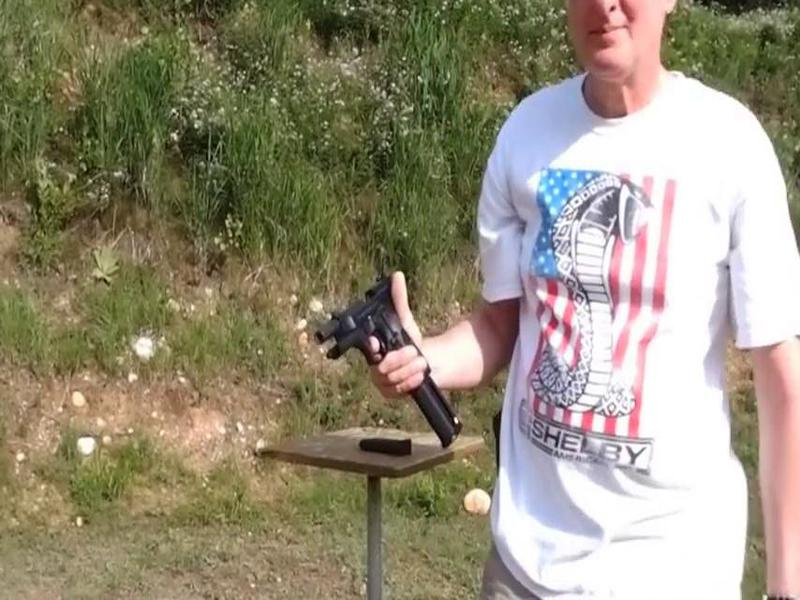Pistola: (307, 261, 438, 383)
